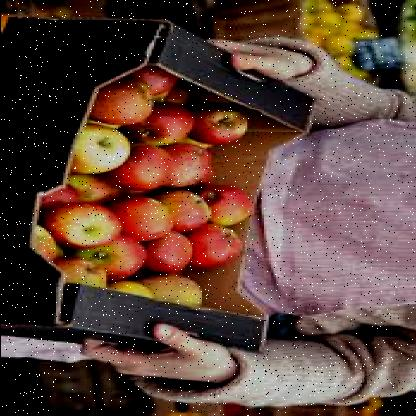apple: (50, 205, 122, 248), (84, 230, 148, 278), (67, 124, 134, 166), (132, 101, 194, 144), (89, 82, 152, 124), (120, 145, 174, 189), (192, 104, 254, 142), (200, 178, 249, 226), (124, 196, 170, 240), (170, 139, 213, 185), (166, 188, 218, 226), (153, 228, 191, 274), (196, 227, 236, 261)
